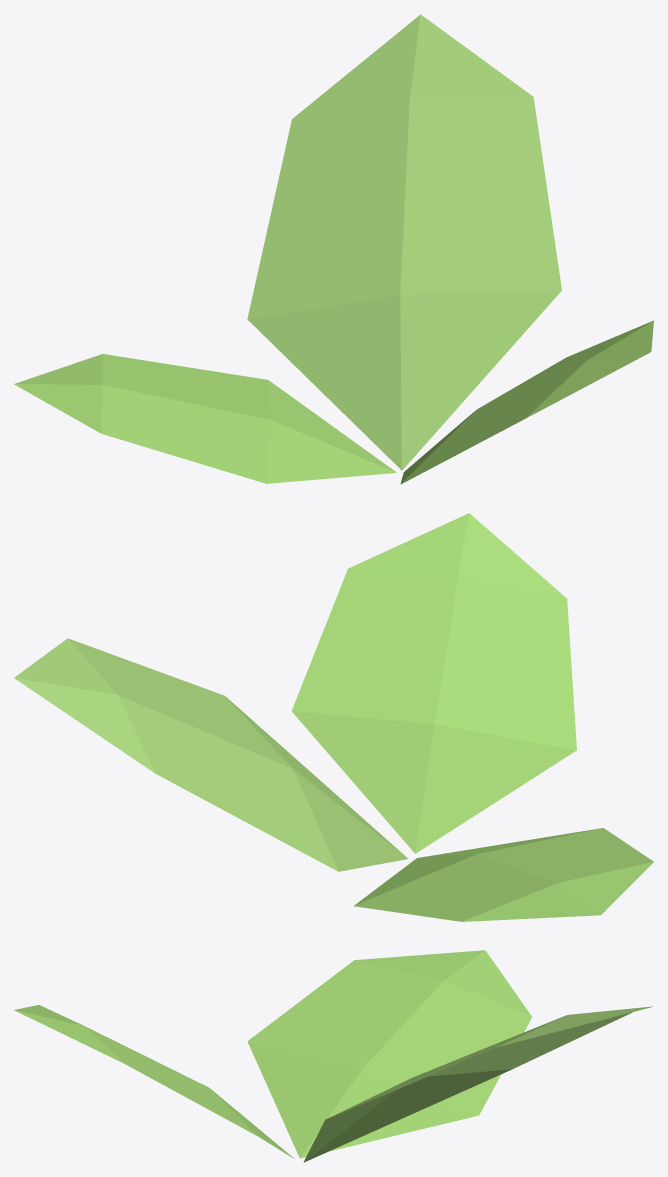
Rendered from Plant_h_TwoS_03.fbx.
The picture shows the model from 3 angles, top to bottom: view 1: azimuth 30°, elevation 25°; view 2: azimuth 150°, elevation 25°; view 3: azimuth 270°, elevation 25°; orthographic projection. The views are drawn at different scales.
Parts seen in each view (by area): view 1: Plant_h_TwoS_03; view 2: Plant_h_TwoS_03; view 3: Plant_h_TwoS_03.
Part boxes in pixels (<box>): Plant_h_TwoS_03: <box>14,14,653,484</box>; Plant_h_TwoS_03: <box>14,513,653,921</box>; Plant_h_TwoS_03: <box>14,950,653,1162</box>.
Size of the model in its own units: 35.51 by 17.3 by 40.06.
